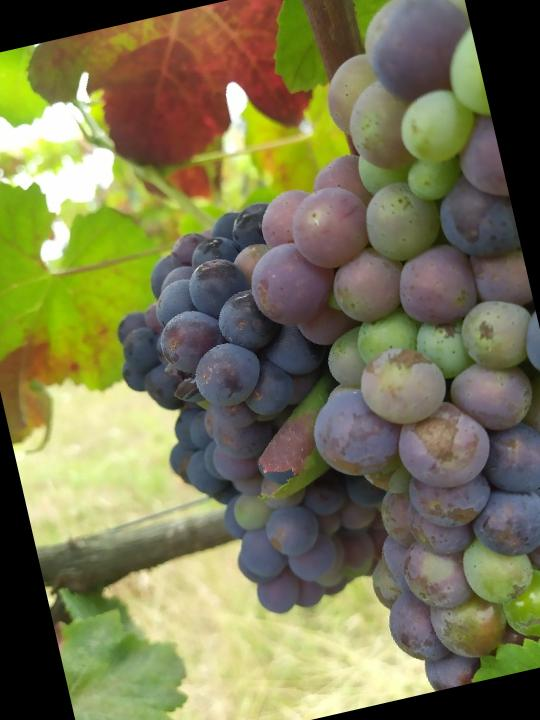grape: (189, 0, 540, 713), (90, 192, 403, 643)
